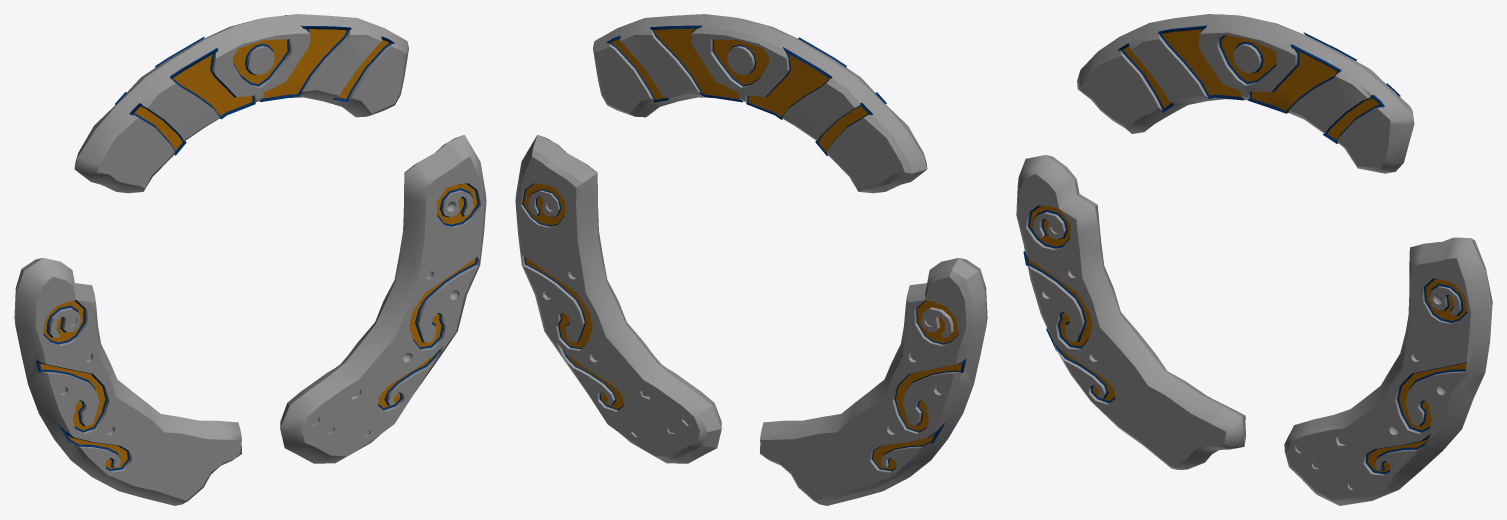
The model's file is gate_LO_V2.FBX.
3 renders of one model, left to right at view 1: azimuth 30°, elevation 25°; view 2: azimuth 150°, elevation 25°; view 3: azimuth 330°, elevation 25°, orthographic.
Visible parts, largest first — view 1: gate_LO, Object001, Shape001; view 2: gate_LO, Object001, Shape001; view 3: gate_LO, Object001, Shape001.
Boxes of the visible parts, bbox=[...] form: gate_LO: bbox=[14, 14, 486, 505]; Object001: bbox=[40, 29, 477, 468]; Shape001: bbox=[36, 15, 479, 470]; gate_LO: bbox=[515, 14, 987, 505]; Object001: bbox=[523, 28, 961, 469]; Shape001: bbox=[522, 25, 966, 470]; gate_LO: bbox=[1016, 14, 1492, 505]; Object001: bbox=[1027, 29, 1467, 471]; Shape001: bbox=[1023, 14, 1467, 474].
Size of the model in its own units: 588 by 557 by 41.97.
